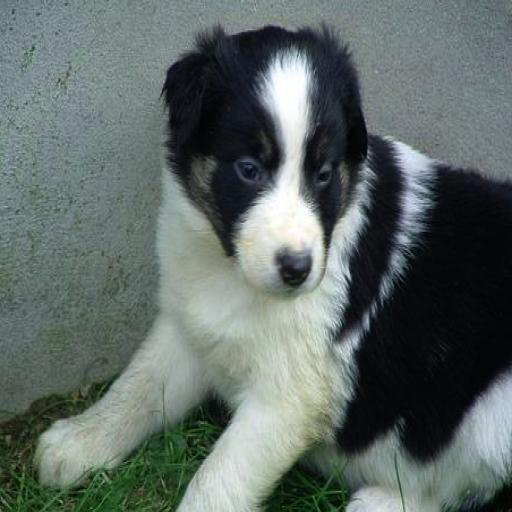dog_face: (159, 28, 367, 301)
